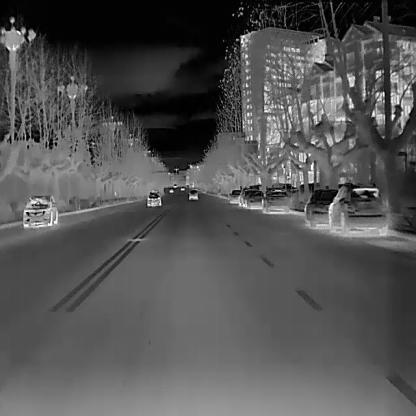car: (328, 182, 387, 237), (303, 188, 346, 228), (21, 194, 58, 228), (260, 189, 289, 214), (239, 189, 262, 207), (146, 190, 161, 206), (228, 189, 242, 203), (189, 189, 198, 199), (169, 188, 173, 193), (172, 183, 176, 187), (180, 186, 183, 190)
